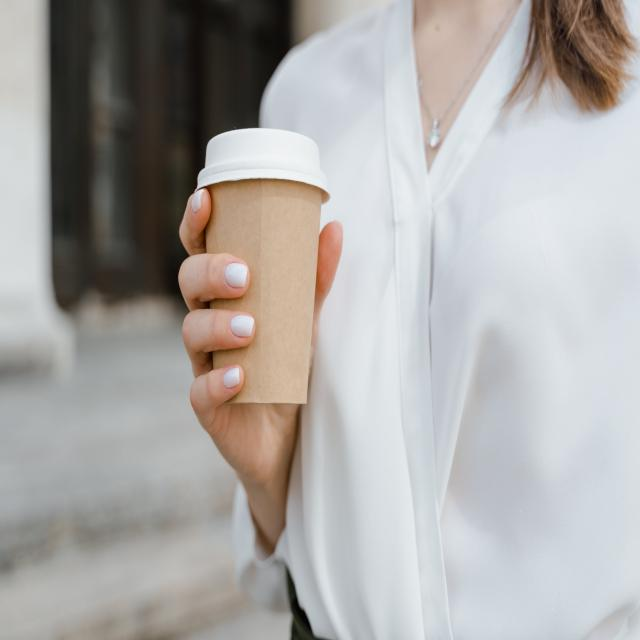cup: (193, 126, 332, 413)
